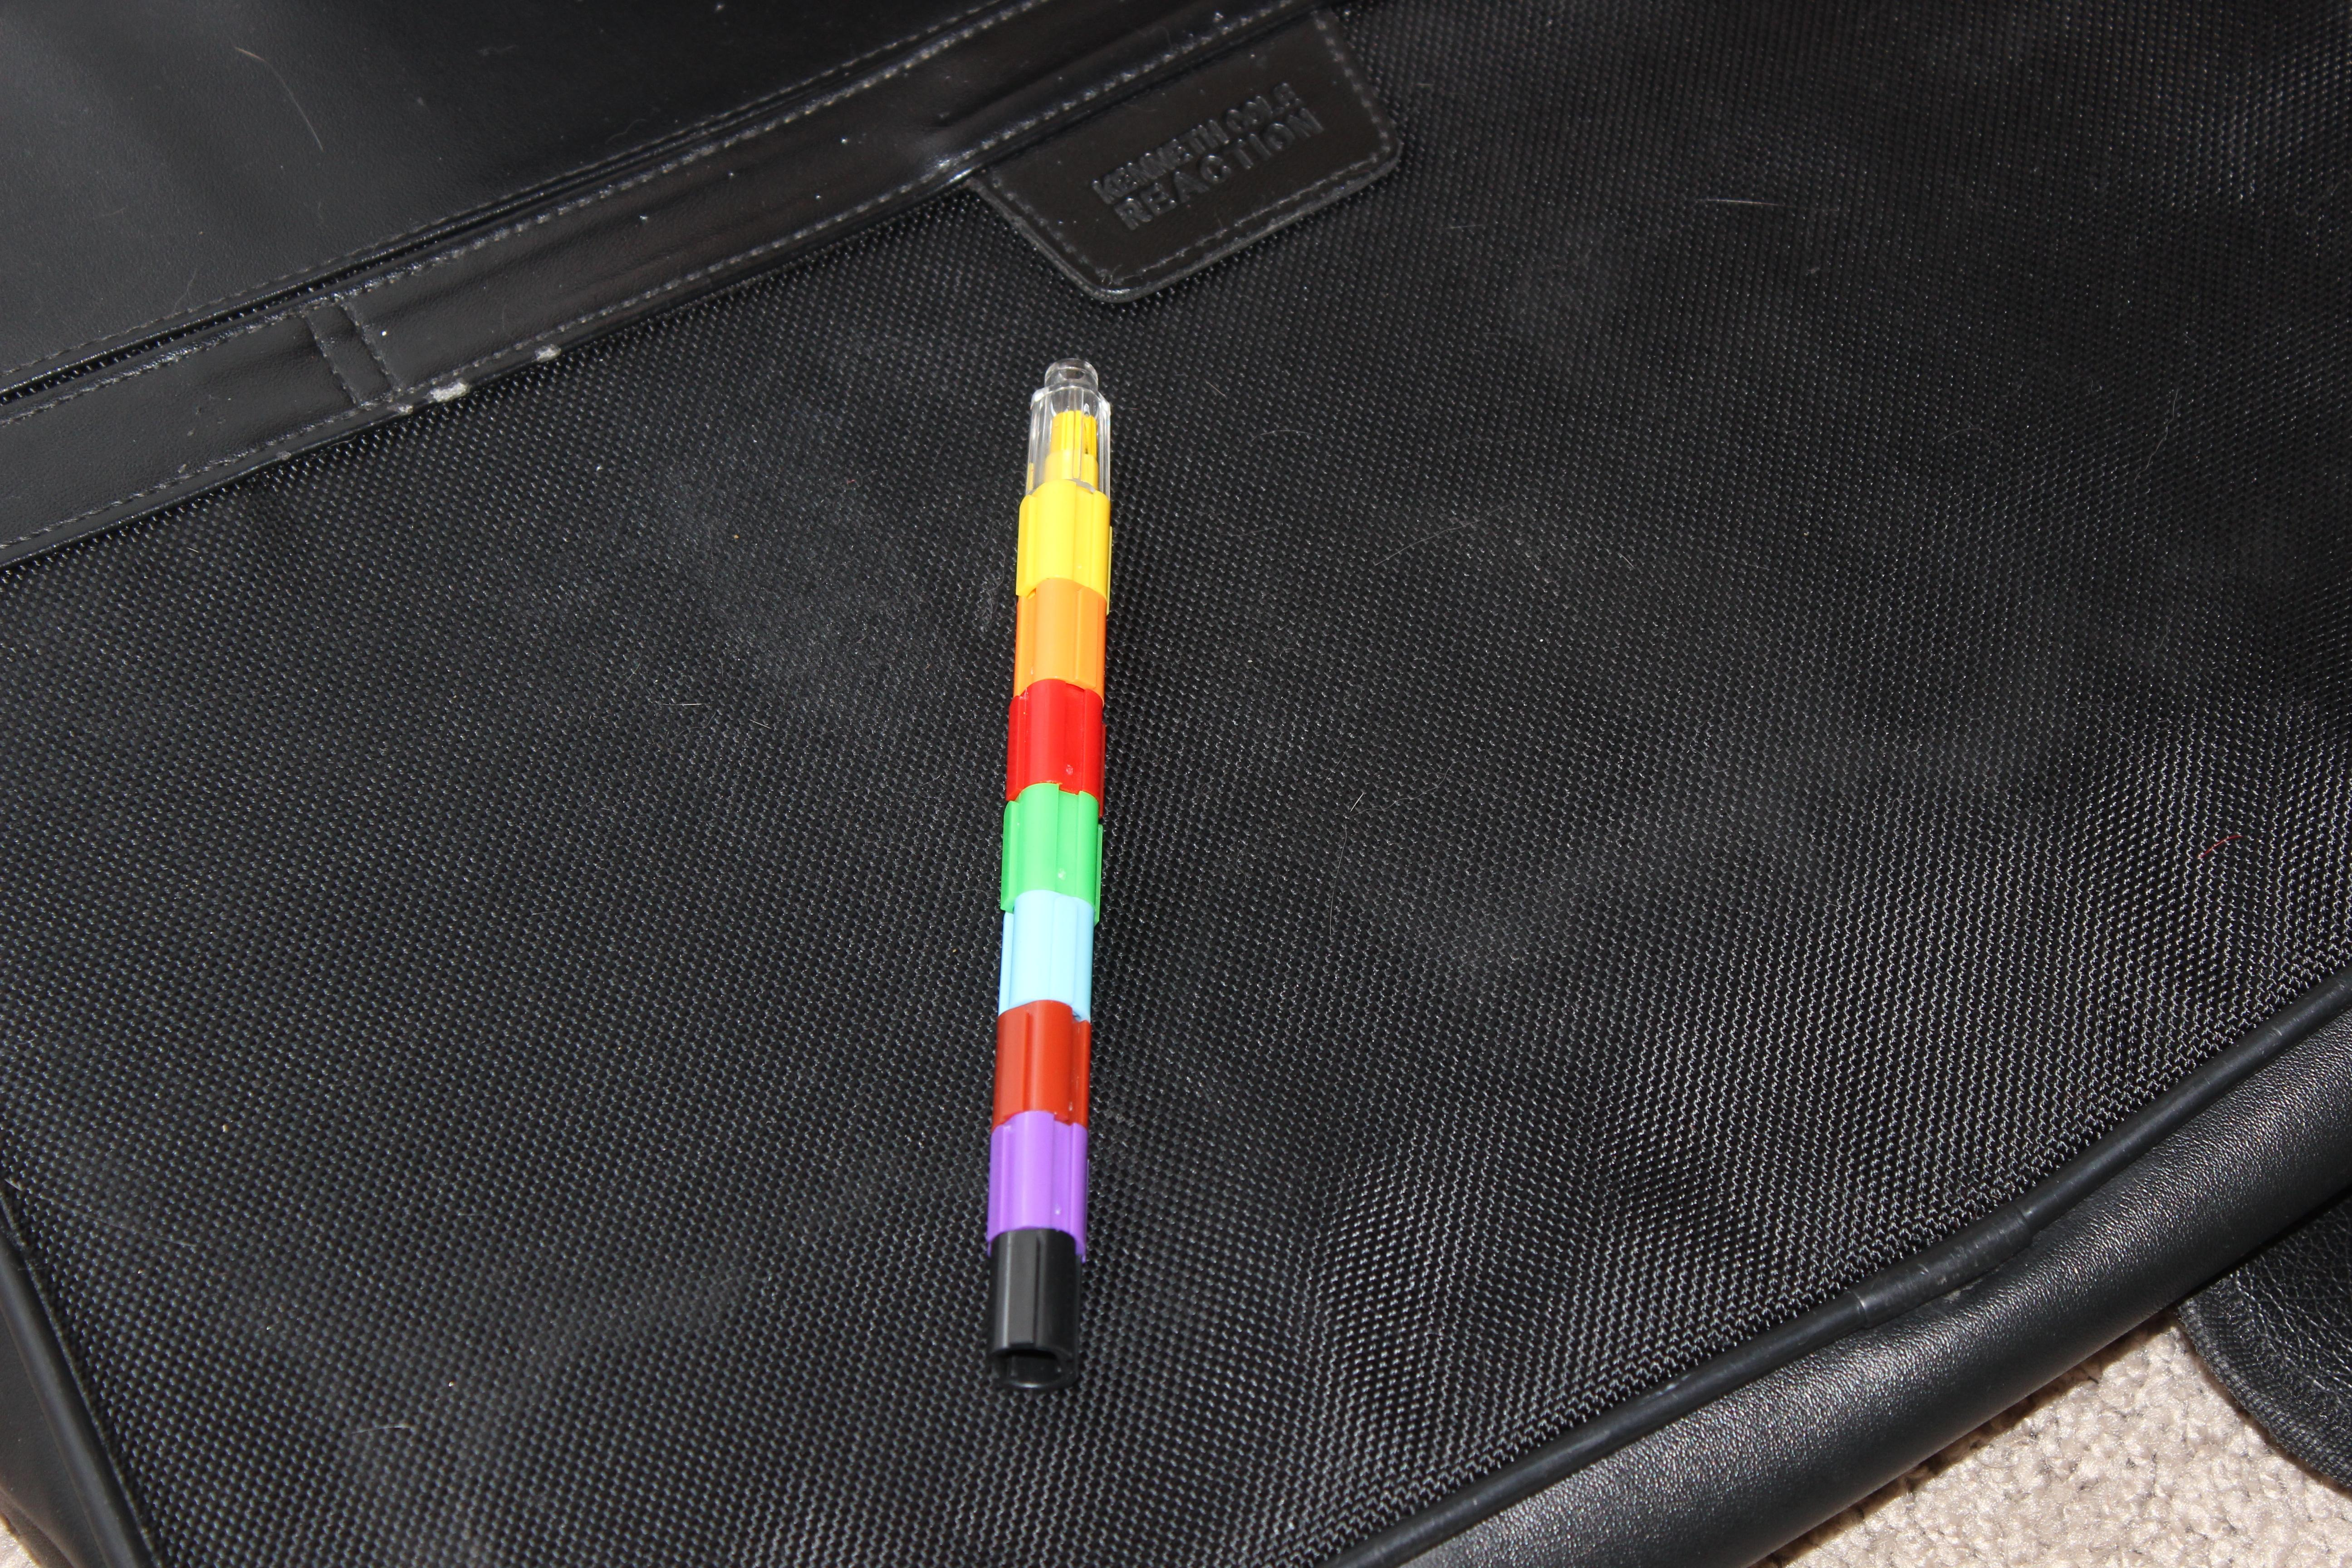rainbowPens: (924, 327, 1174, 1419)
